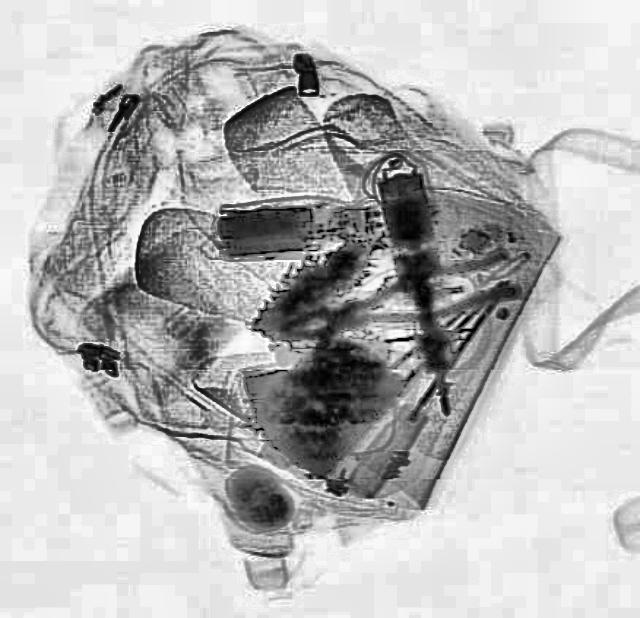Pliers: (288, 245, 520, 350)
